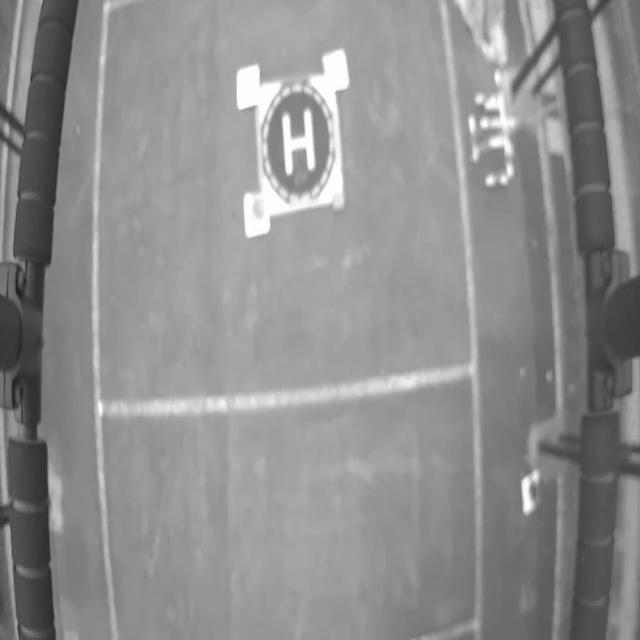Helipad: (282, 109, 316, 177)
